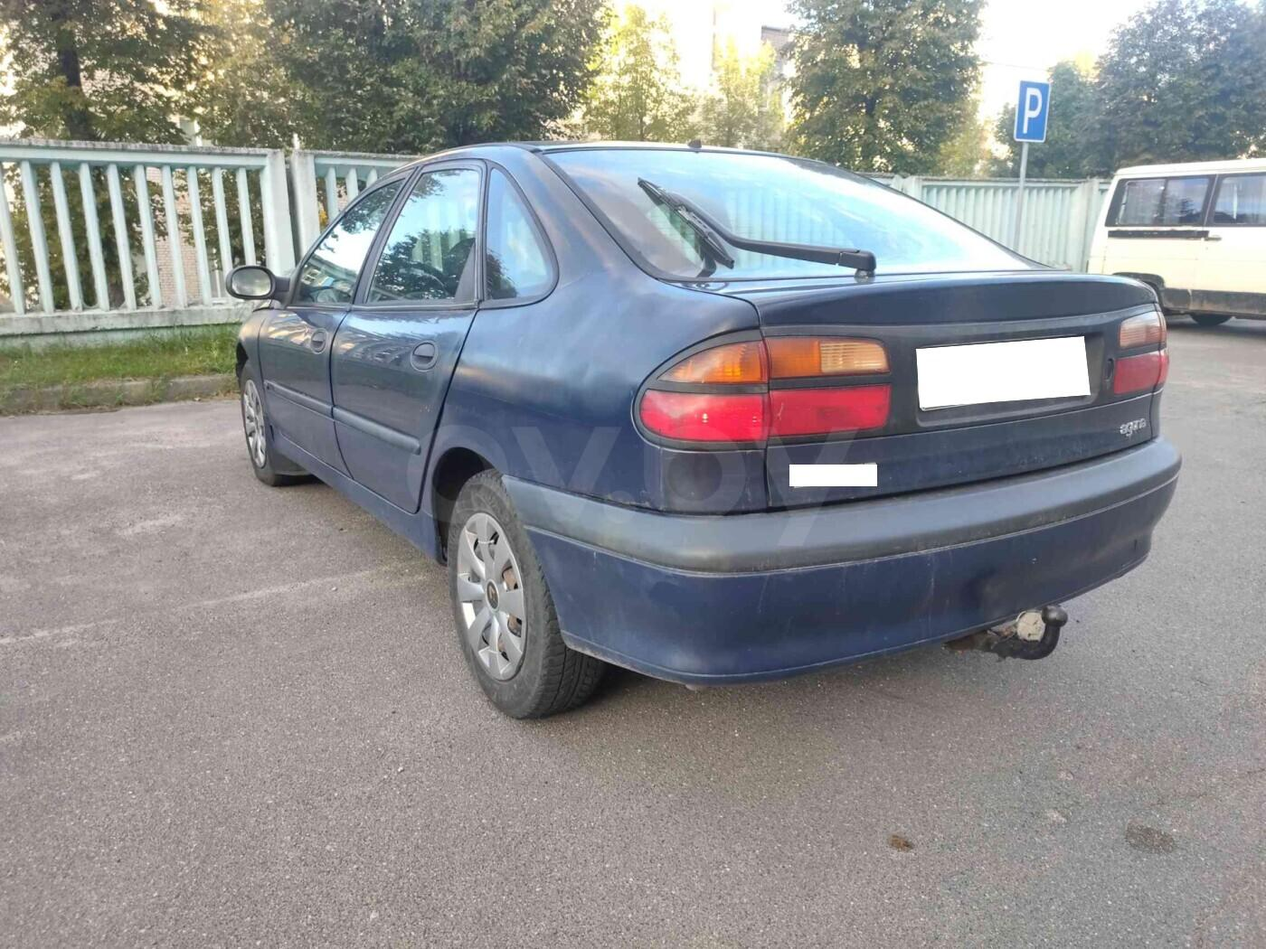Laguna_1998-2001: (234, 137, 1192, 733)
